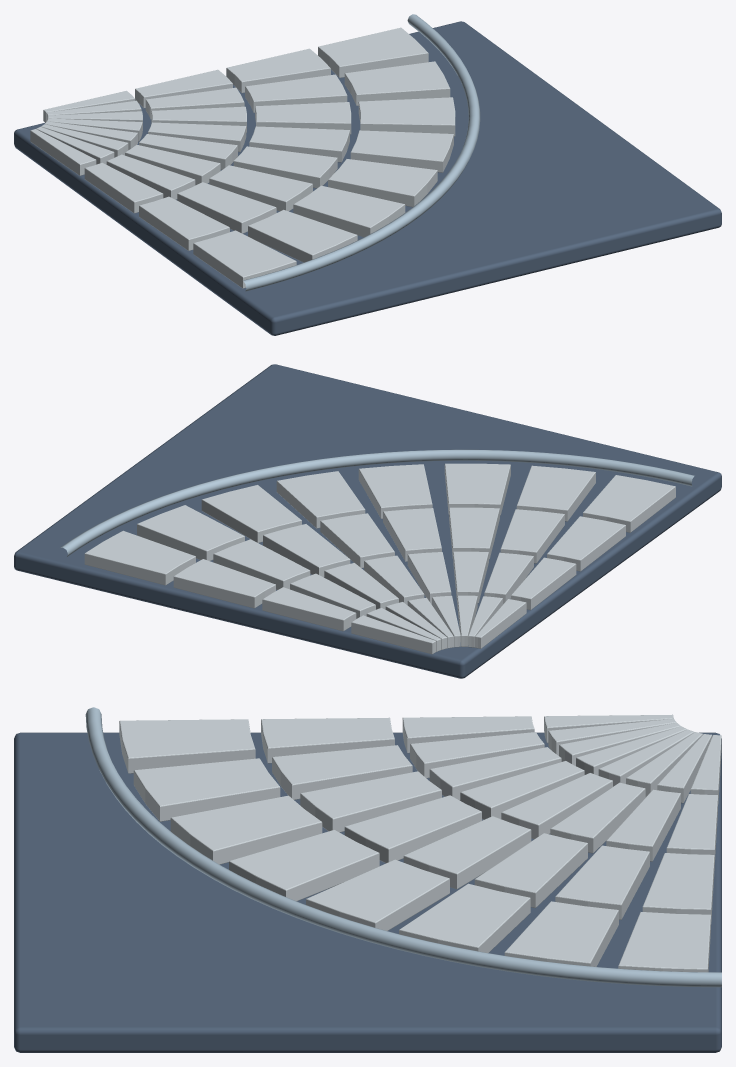
Rendered from moonsteel-convergence-sweeping-lane-corner-7596ab73__18181.glb.
3 renders of one model, top to bottom at view 1: azimuth 30°, elevation 25°; view 2: azimuth 150°, elevation 25°; view 3: azimuth 270°, elevation 25°, orthographic. The views are drawn at different scales.
Parts seen in each view (by area): view 1: sweeping-lane-corner; view 2: sweeping-lane-corner; view 3: sweeping-lane-corner.
Boxes of the visible parts, x1,y1,x2,y2 form: sweeping-lane-corner: (14,14,721,335); sweeping-lane-corner: (14,364,721,678); sweeping-lane-corner: (14,707,721,1052).
Bounding box in the file's own units: 4 × 0.3051 × 4.
